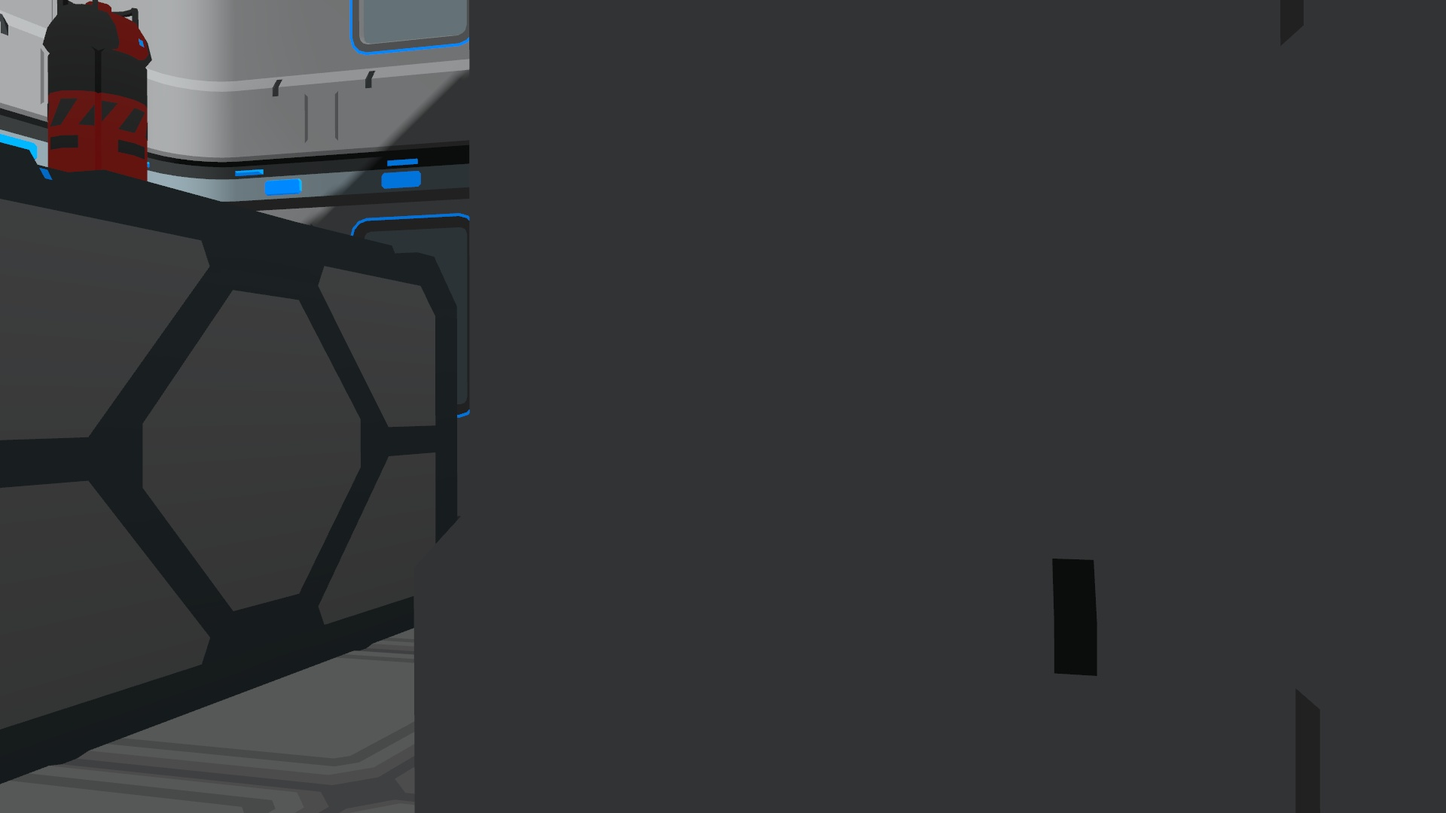red_barrel: (35, 0, 154, 191)
